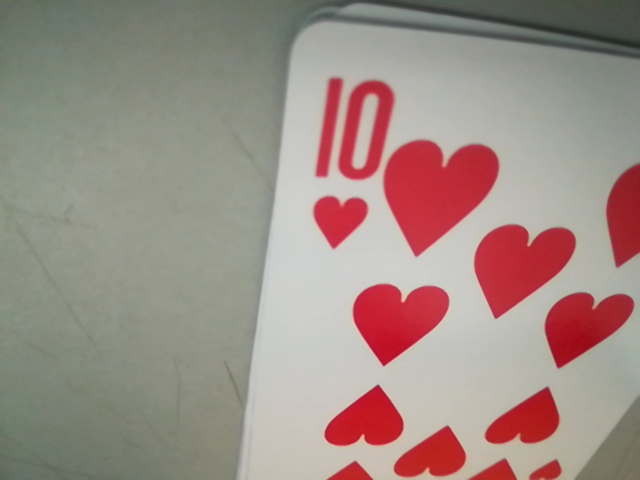hx 10: (313, 75, 394, 251)
